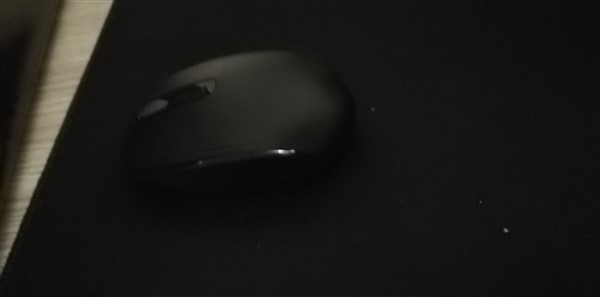mouse: (114, 45, 368, 198)
